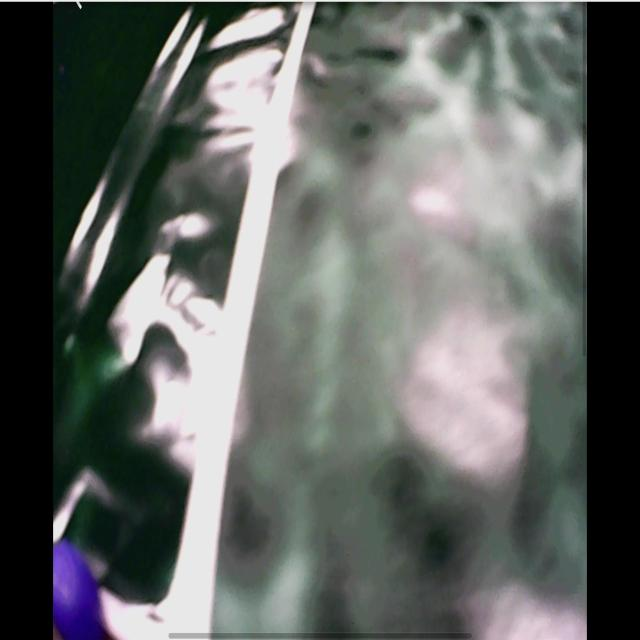ball: (55, 541, 98, 640)
